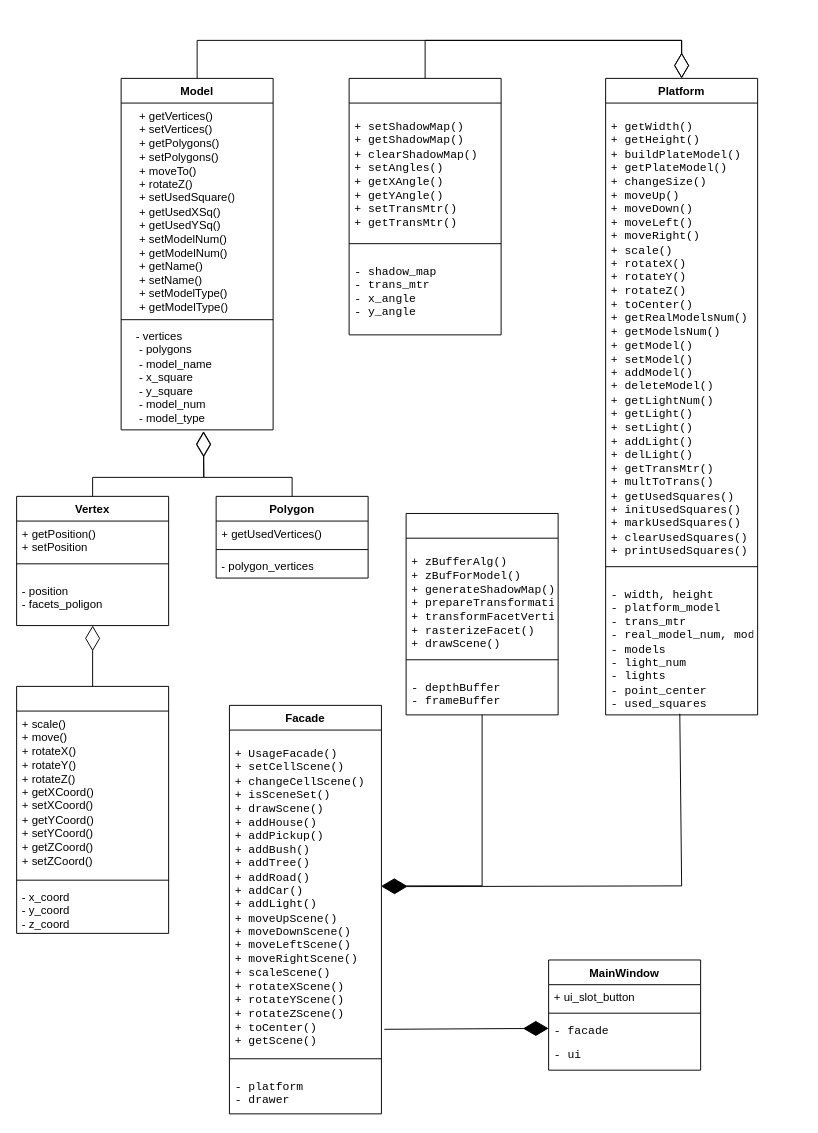
The diagram is 818 pixels wide and 1133 high, and some of its shapes have lost their labels. The box of each missing label's shape, as (x1, y1, x2, y2) in pixels:
Drawer: (405, 513, 558, 715)
Light: (348, 77, 501, 335)
Point: (16, 685, 169, 933)
